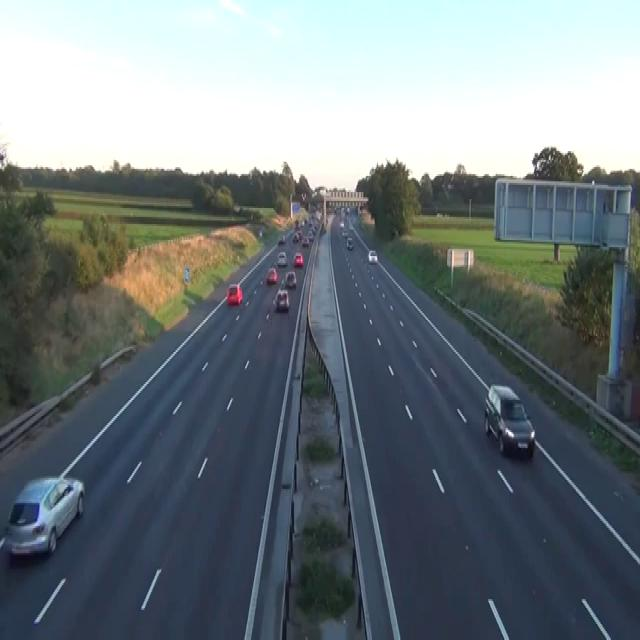Car: (4, 475, 85, 558), (484, 384, 535, 459), (272, 288, 289, 311), (226, 283, 242, 304), (285, 270, 296, 288), (266, 266, 277, 282), (293, 250, 303, 266), (277, 250, 287, 266), (367, 249, 377, 263), (346, 236, 353, 249), (277, 233, 285, 243), (301, 235, 309, 245), (307, 229, 314, 240), (320, 222, 326, 233), (446, 182, 453, 190), (292, 233, 298, 242), (339, 220, 344, 230), (280, 278, 286, 286), (341, 230, 347, 237), (348, 222, 353, 230), (345, 206, 350, 214), (259, 228, 262, 236)
Truck: (493, 176, 632, 249)
